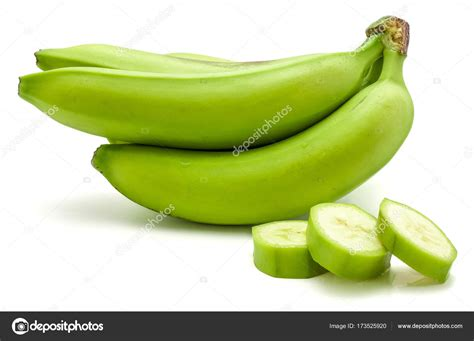banana: (89, 72, 414, 229), (17, 42, 379, 152)
